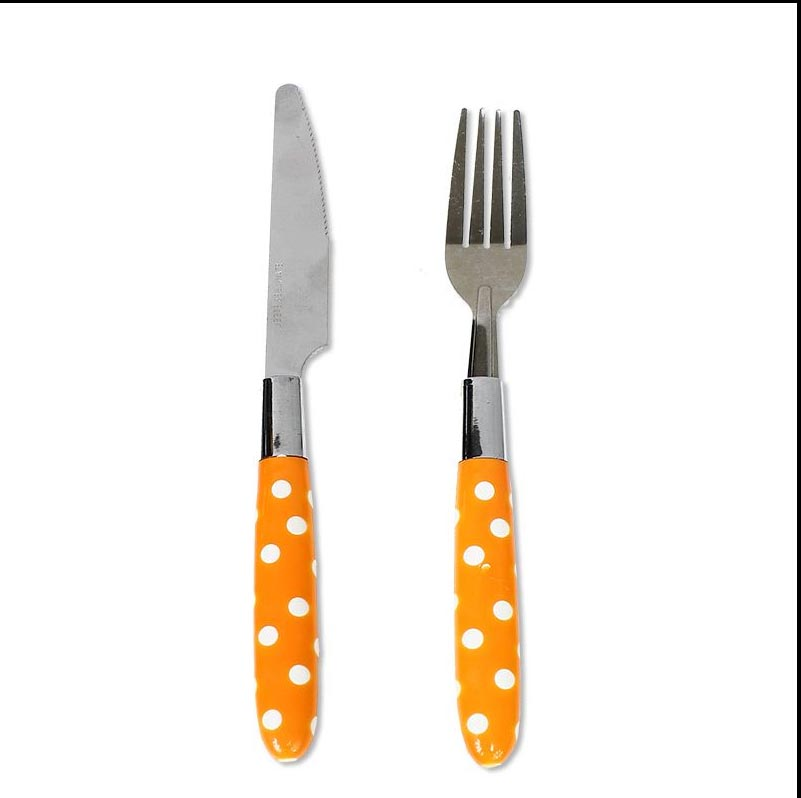Noz: (258, 76, 336, 380)
Widelec: (441, 105, 529, 326)
